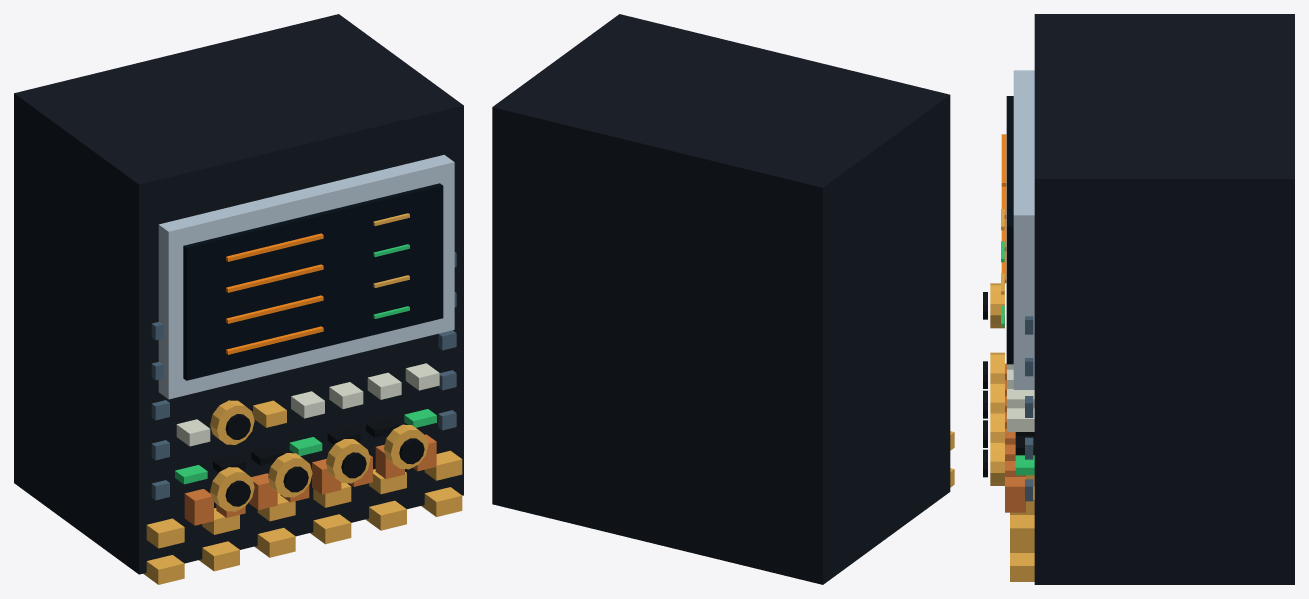
The model's file is 82_L92_SamplingSafetyPLC.fbx.
The picture shows the model from 3 angles, left to right: view 1: azimuth 30°, elevation 25°; view 2: azimuth 150°, elevation 25°; view 3: azimuth 270°, elevation 25°; orthographic projection. The views are drawn at different scales.
Visible parts, largest first — view 1: L92_SamplingSafetyPLC, L92_SamplingSafetyPLC_Part_0012, L92_SamplingSafetyPLC_Part_0014, L92_SamplingSafetyPLC_Part_0016, L92_SamplingSafetyPLC_Part_0020, L92_SamplingSafetyPLC_Part_0018; view 2: L92_SamplingSafetyPLC; view 3: L92_SamplingSafetyPLC, L92_SamplingSafetyPLC_Part_0018, L92_SamplingSafetyPLC_Part_0020, L92_SamplingSafetyPLC_Part_0012, L92_SamplingSafetyPLC_Part_0014, L92_SamplingSafetyPLC_Part_0016.
Boxes of the visible parts, x1,y1,x2,y2 form: L92_SamplingSafetyPLC: (14, 14, 463, 584); L92_SamplingSafetyPLC_Part_0012: (210, 467, 254, 511); L92_SamplingSafetyPLC_Part_0014: (268, 453, 312, 497); L92_SamplingSafetyPLC_Part_0016: (326, 439, 370, 483); L92_SamplingSafetyPLC_Part_0020: (210, 400, 254, 444); L92_SamplingSafetyPLC_Part_0018: (384, 424, 428, 469); L92_SamplingSafetyPLC: (492, 14, 954, 584); L92_SamplingSafetyPLC: (1001, 14, 1294, 584); L92_SamplingSafetyPLC_Part_0018: (990, 441, 1004, 485); L92_SamplingSafetyPLC_Part_0020: (990, 283, 1004, 328); L92_SamplingSafetyPLC_Part_0012: (990, 352, 1004, 381); L92_SamplingSafetyPLC_Part_0014: (990, 382, 1004, 411); L92_SamplingSafetyPLC_Part_0016: (990, 411, 1004, 440).
Bounding box in the file's own units: 112 × 130 × 89.6.
